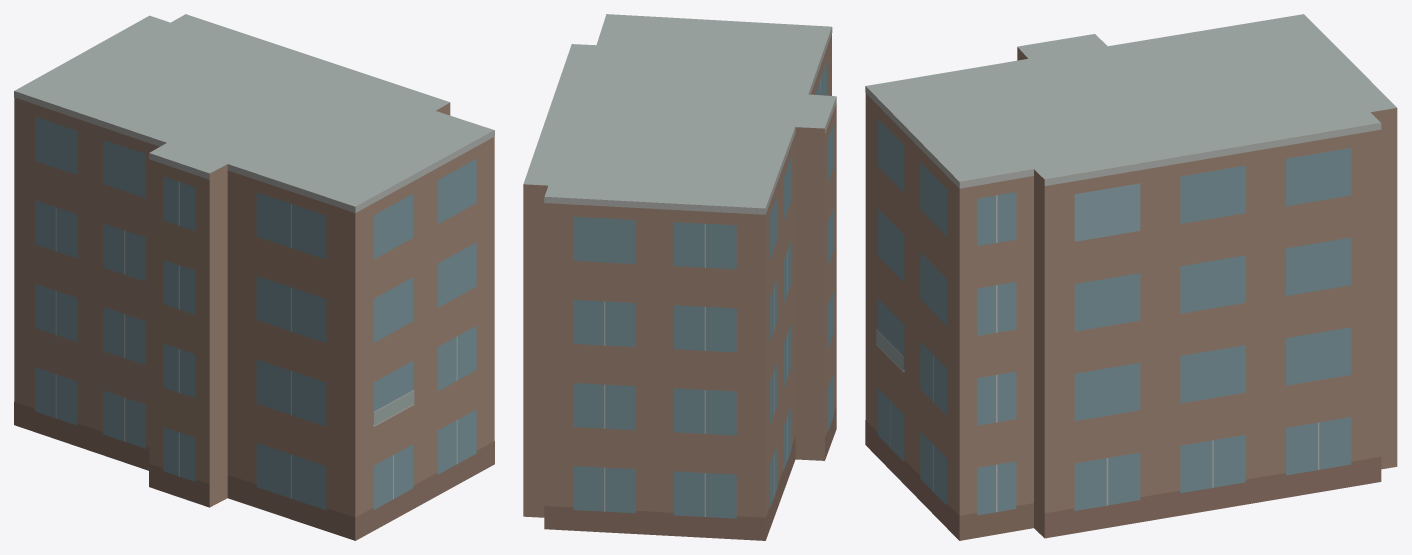
File: survey-upis-32908150.glb
3 renders of one model, left to right at view 1: azimuth 30°, elevation 25°; view 2: azimuth 150°, elevation 25°; view 3: azimuth 270°, elevation 25°, orthographic. The views are drawn at different scales.
Parts seen in each view (by area): view 1: survey-upis-32908150.tmp; view 2: survey-upis-32908150.tmp; view 3: survey-upis-32908150.tmp.
Part boxes in pixels (<box>): survey-upis-32908150.tmp: <box>14,14,494,540</box>; survey-upis-32908150.tmp: <box>523,14,836,540</box>; survey-upis-32908150.tmp: <box>865,14,1397,540</box>.
Bounding box in the file's own units: 12.95 × 12.9 × 17.33.
